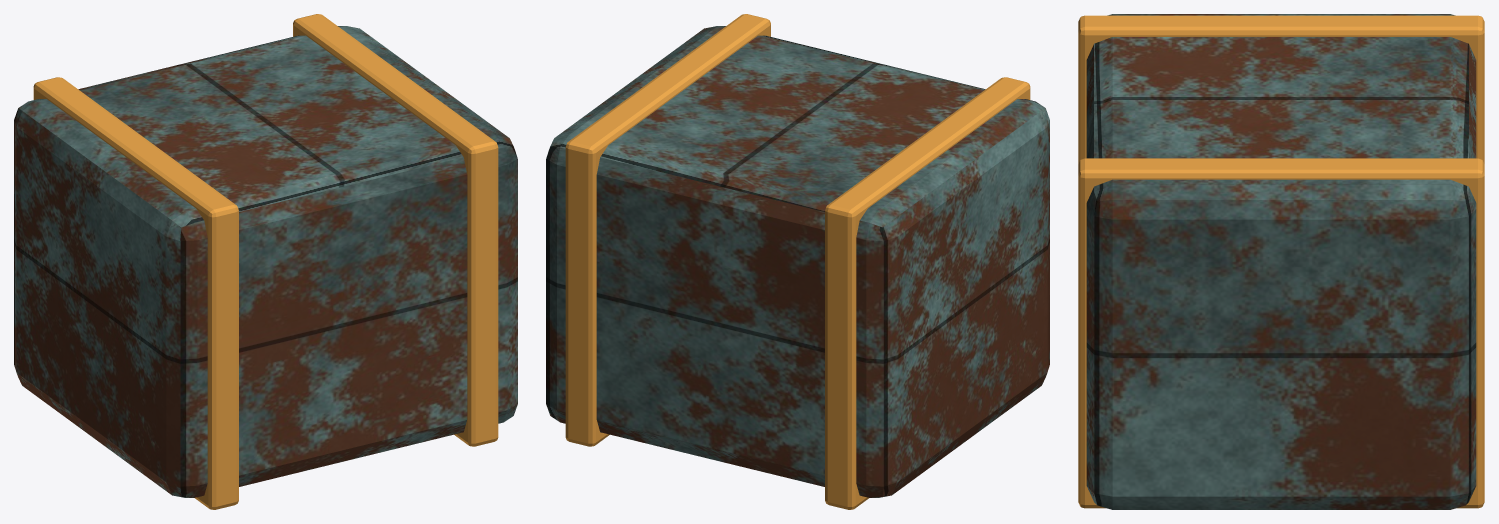
File: crate.glb
The picture shows the model from 3 angles, left to right: view 1: azimuth 30°, elevation 25°; view 2: azimuth 150°, elevation 25°; view 3: azimuth 270°, elevation 25°; orthographic projection. The views are drawn at different scales.
Visible parts, largest first — view 1: crate_Hull, crate_Safety ochre; view 2: crate_Hull, crate_Safety ochre; view 3: crate_Hull, crate_Safety ochre.
Part boxes in pixels (bbox=[...]): crate_Hull: bbox=[14, 26, 517, 497]; crate_Safety ochre: bbox=[33, 14, 498, 509]; crate_Hull: bbox=[546, 26, 1049, 497]; crate_Safety ochre: bbox=[565, 14, 1030, 509]; crate_Hull: bbox=[1086, 14, 1476, 509]; crate_Safety ochre: bbox=[1078, 15, 1484, 508].
Size of the model in its own units: 1.4 by 1.15 by 1.25.
2 materials, 1 textured.
